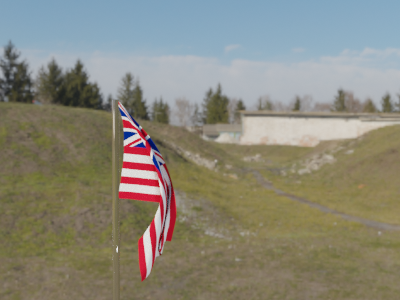Malaysia flag: (115, 101, 184, 282)
